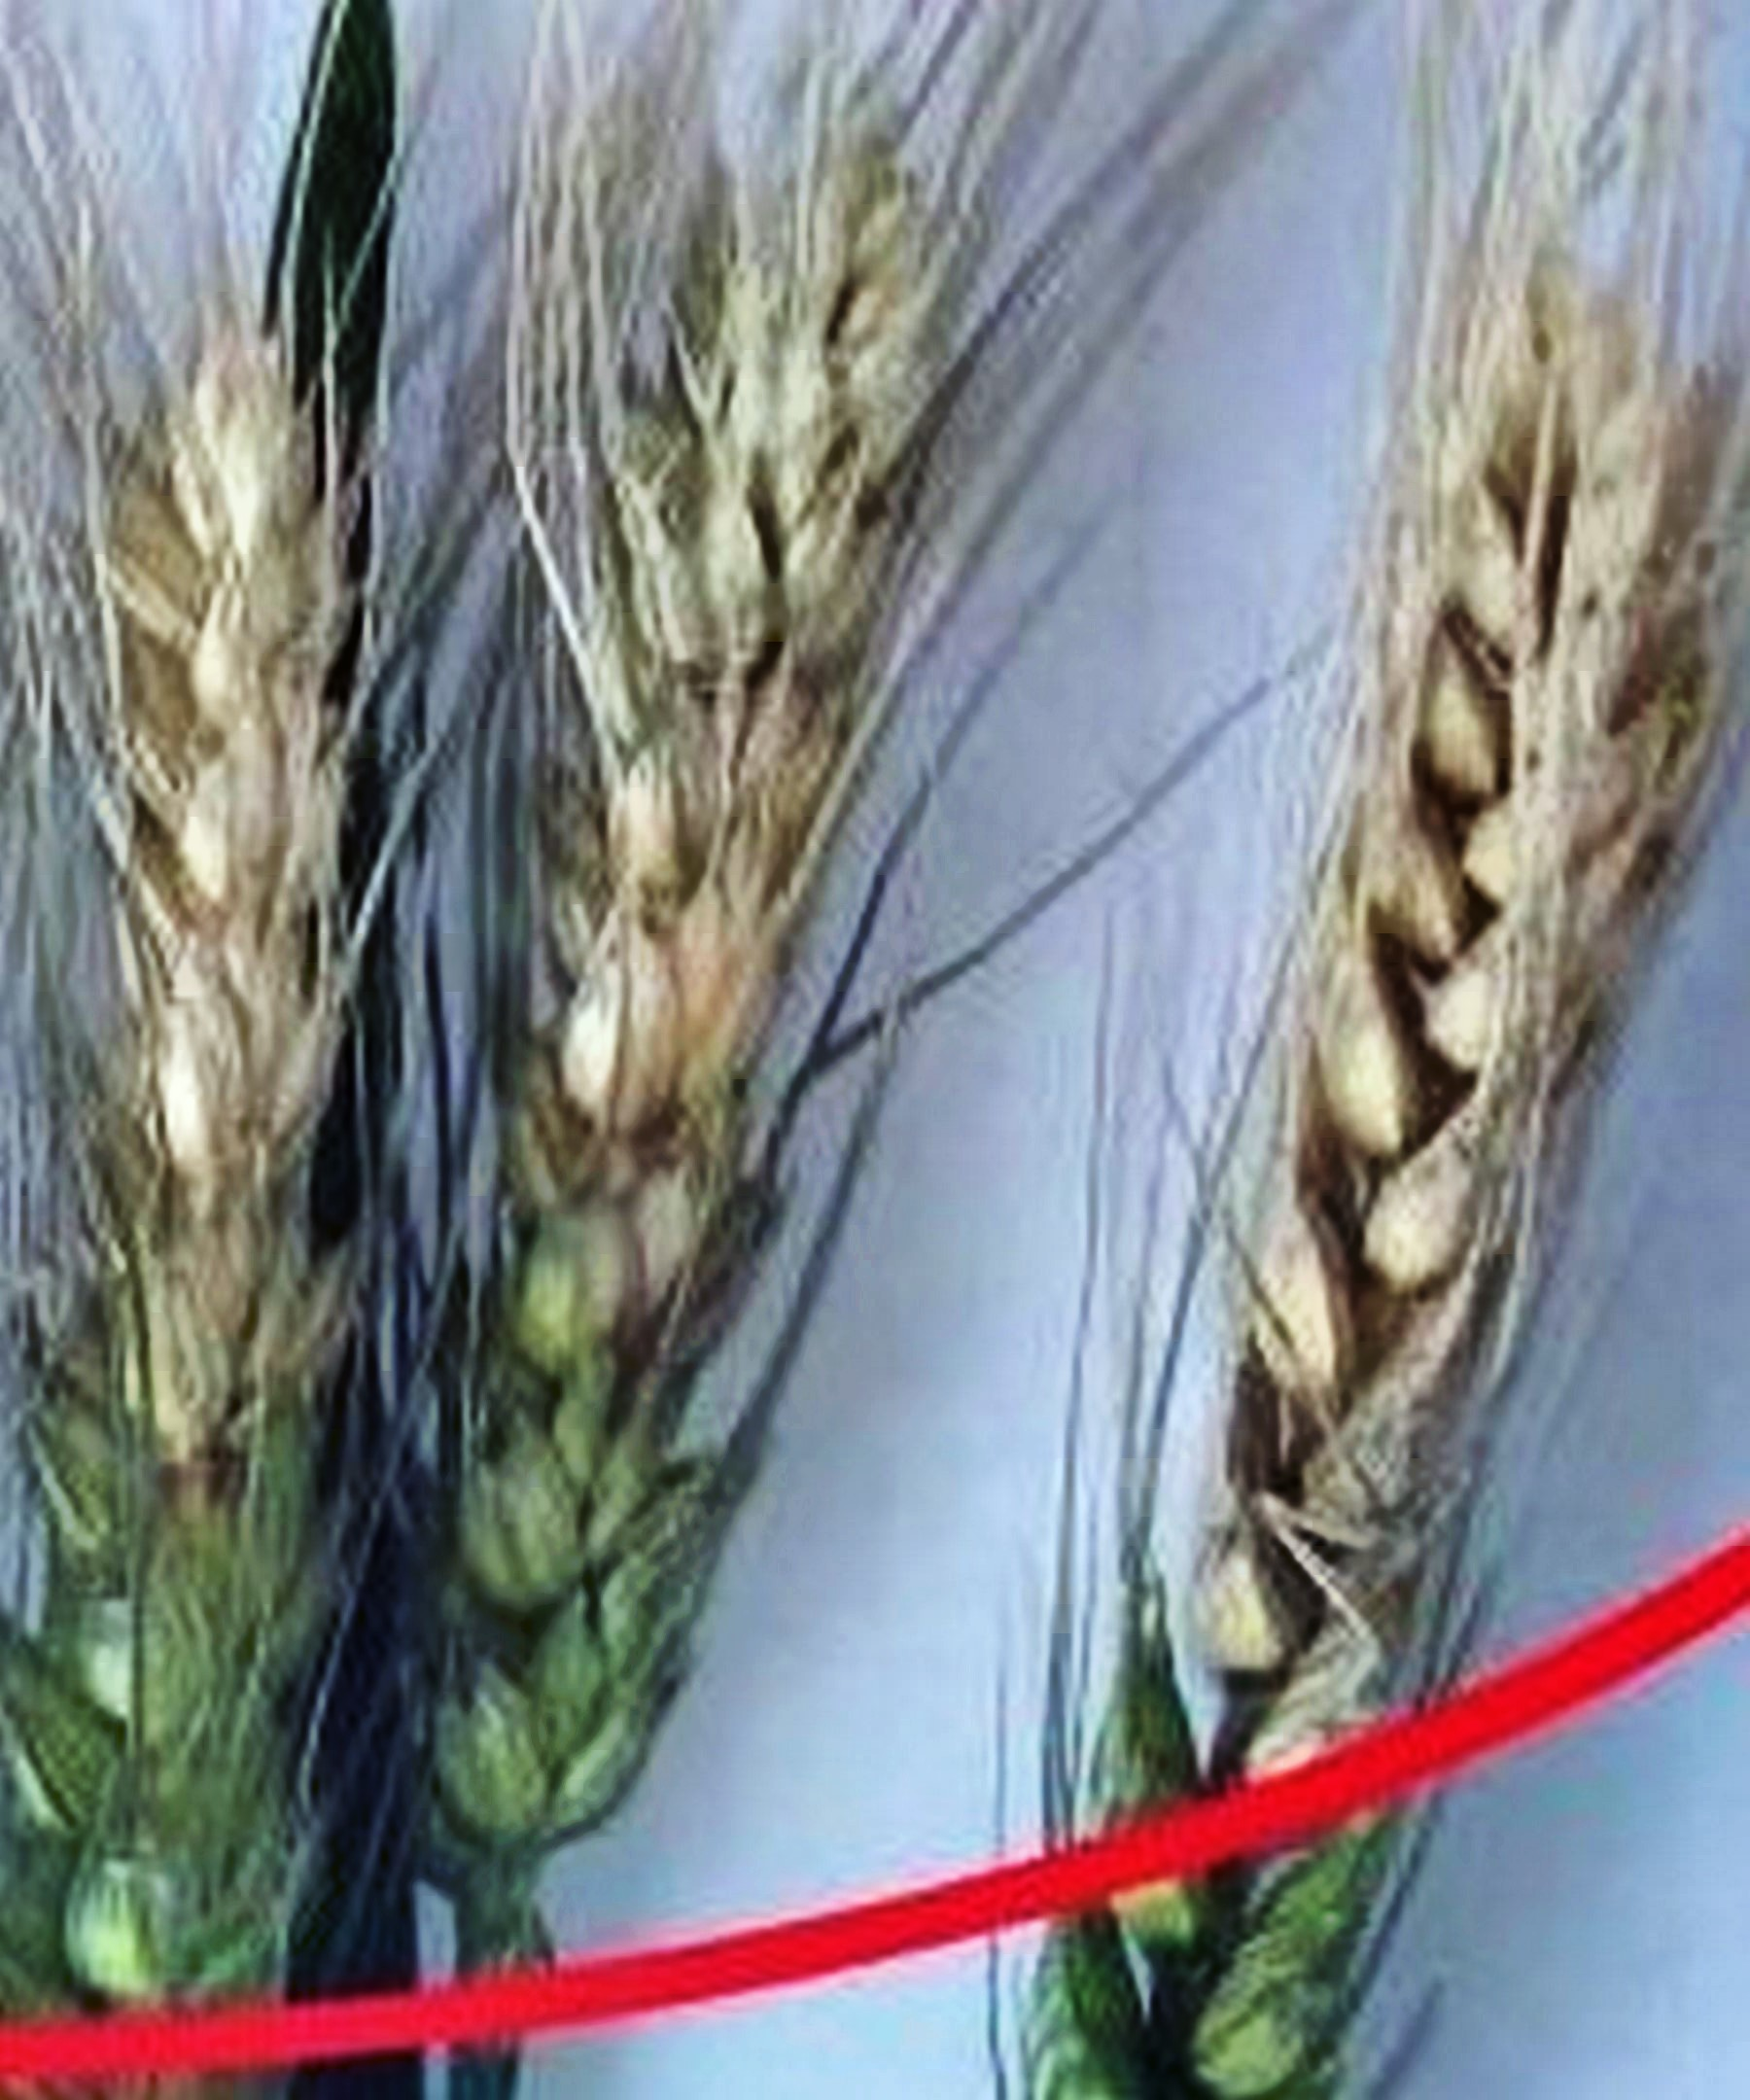Wheat scab: (1042, 269, 1750, 2011), (455, 126, 988, 1845), (2, 202, 368, 2081)
